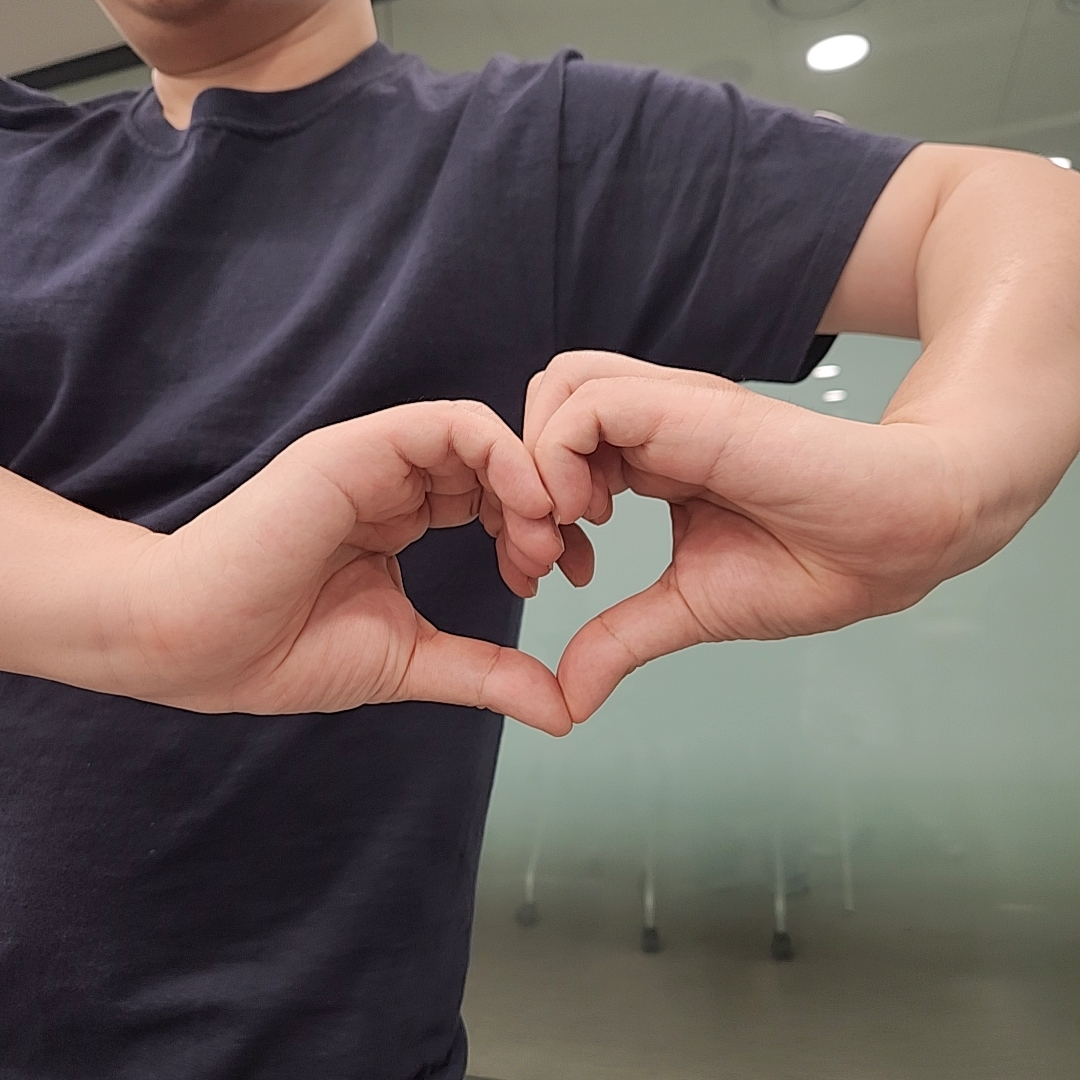heart: (177, 350, 904, 737)
